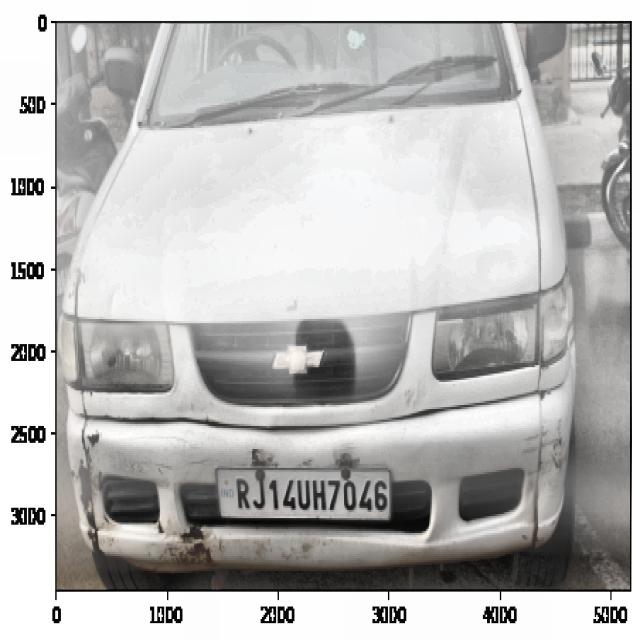license_plate: (228, 469, 392, 524)
